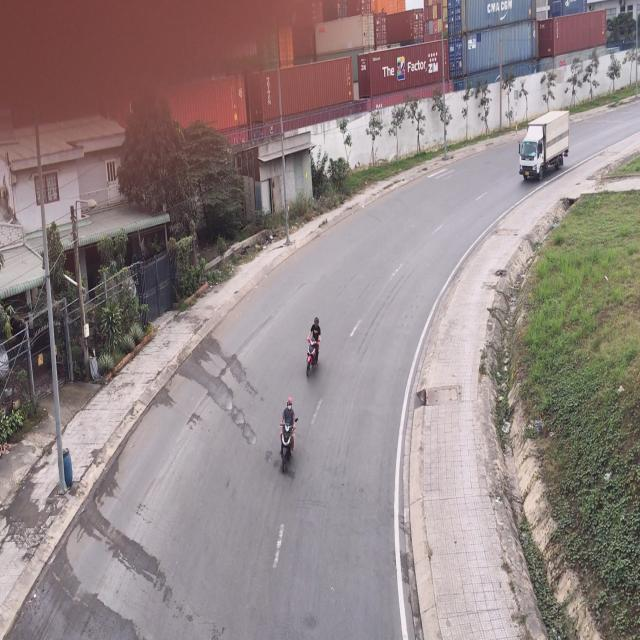motorbike: (278, 396, 298, 473), (302, 317, 320, 381)
truck: (519, 114, 569, 184)
